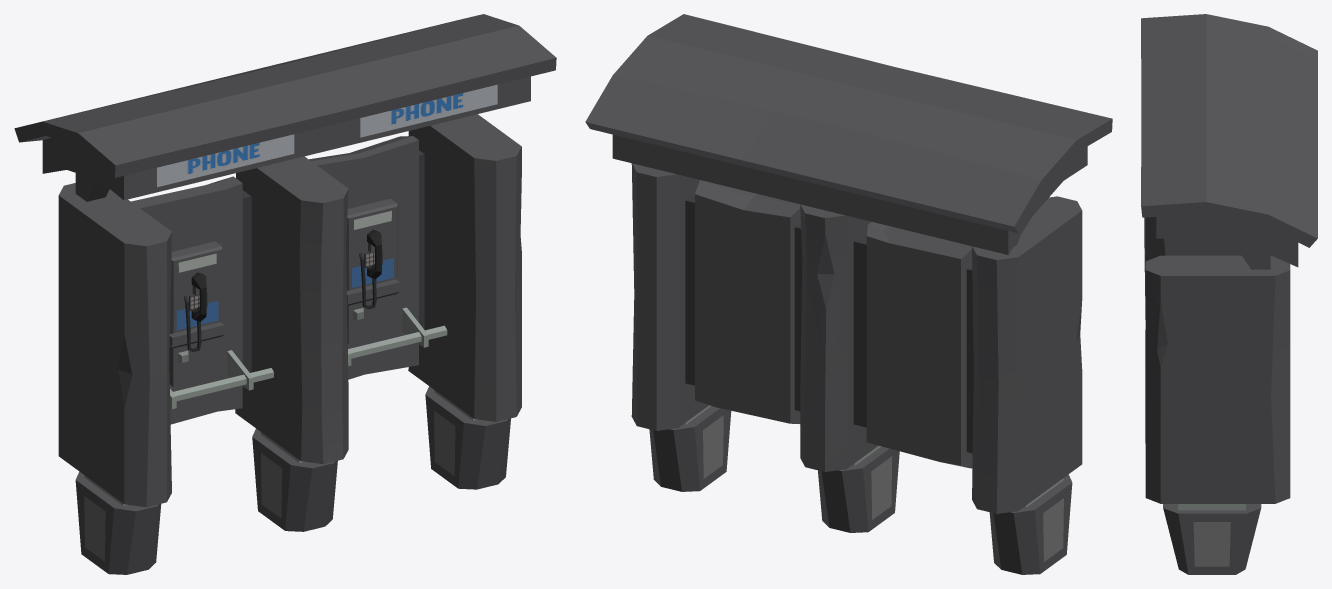
Rendered from SM_Prop_Phones_01.obj.
The picture shows the model from 3 angles, left to right: view 1: azimuth 30°, elevation 25°; view 2: azimuth 150°, elevation 25°; view 3: azimuth 270°, elevation 25°; orthographic projection. The views are drawn at different scales.
Visible parts, largest first — view 1: SM_Prop_Phones_01_0; view 2: SM_Prop_Phones_01_0; view 3: SM_Prop_Phones_01_0.
Boxes of the visible parts, x1=… form: SM_Prop_Phones_01_0: x1=14, y1=14, x2=556, y2=574; SM_Prop_Phones_01_0: x1=585, y1=14, x2=1112, y2=574; SM_Prop_Phones_01_0: x1=1141, y1=14, x2=1317, y2=574.
Bounding box in the file's own units: 2.63 × 2.5 × 1.05.
1 material, 1 textured.
